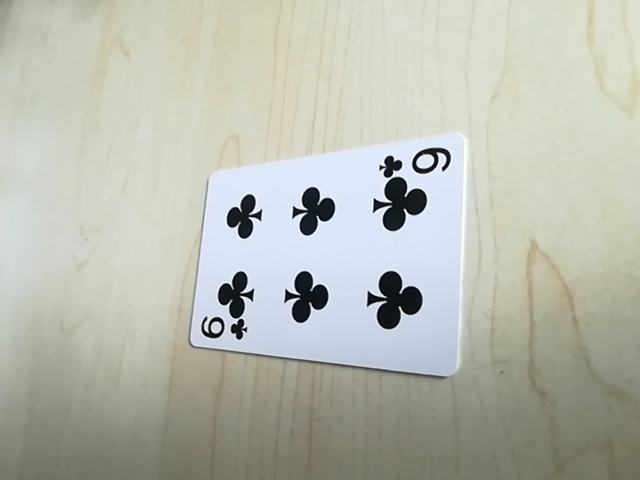mh 6: (378, 144, 453, 180), (194, 313, 249, 347)
